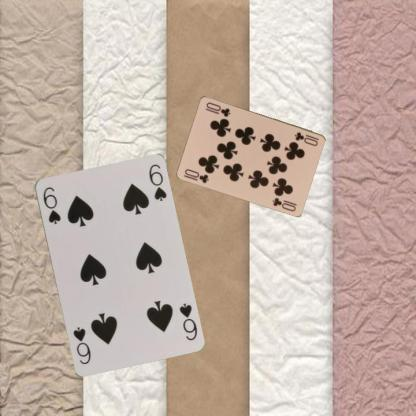10c: (183, 166, 210, 184), (292, 130, 320, 147)
6s: (176, 300, 198, 342), (40, 184, 62, 225)
